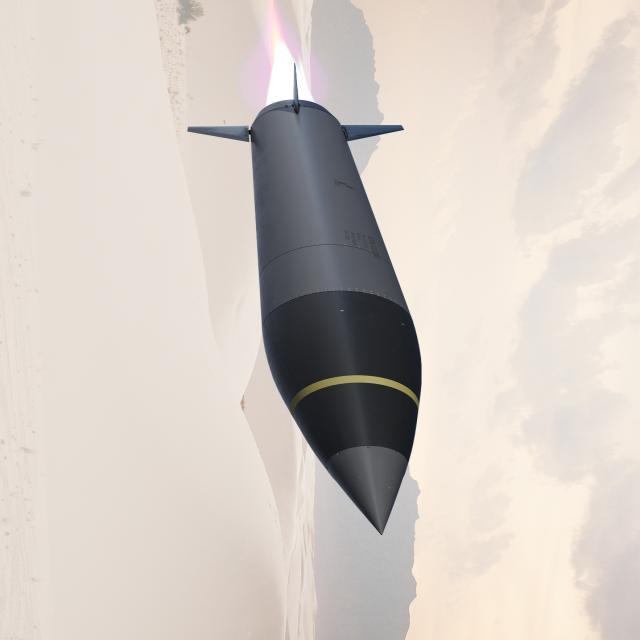missile: (185, 68, 421, 535)
